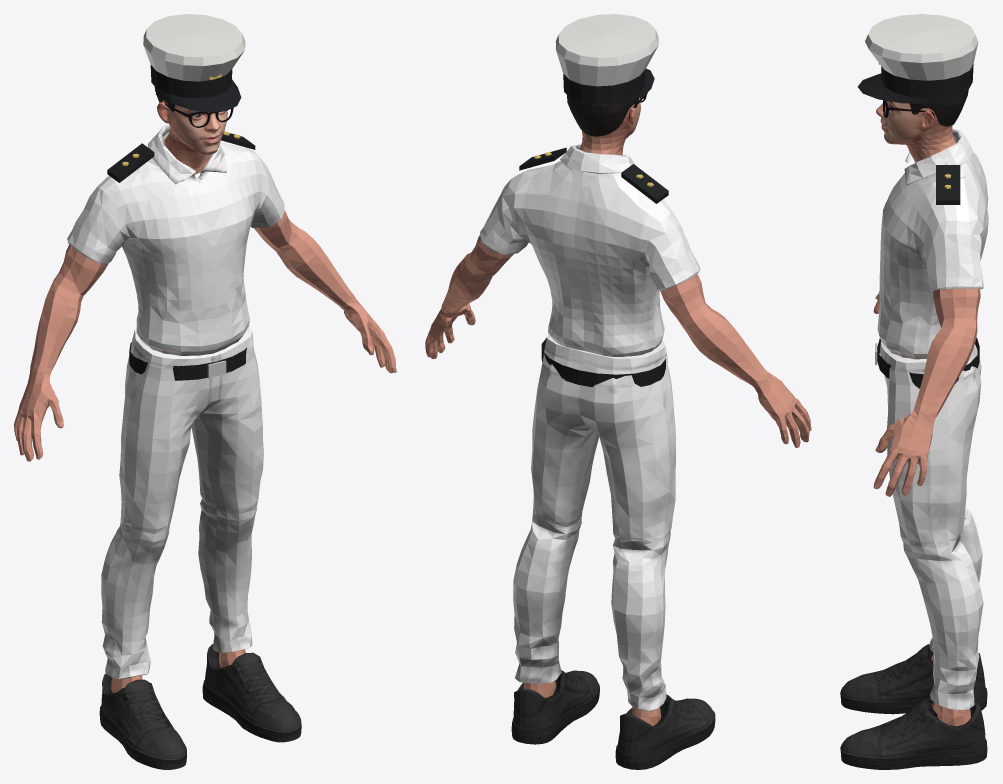
Rendered from police-white.glb.
3 views of the same model, side by side, from view 1: azimuth 30°, elevation 25°; view 2: azimuth 150°, elevation 25°; view 3: azimuth 270°, elevation 25° (orthographic).
Parts seen in each view (by area): view 1: body; view 2: body; view 3: body.
Part boxes in pixels (x1,y1,x2,y2): body: (14, 14, 396, 769); body: (425, 14, 811, 769); body: (840, 14, 988, 769).
Bounding box in the file's own units: 1.06 × 1.9 × 0.3655.
1 material, 1 textured.
